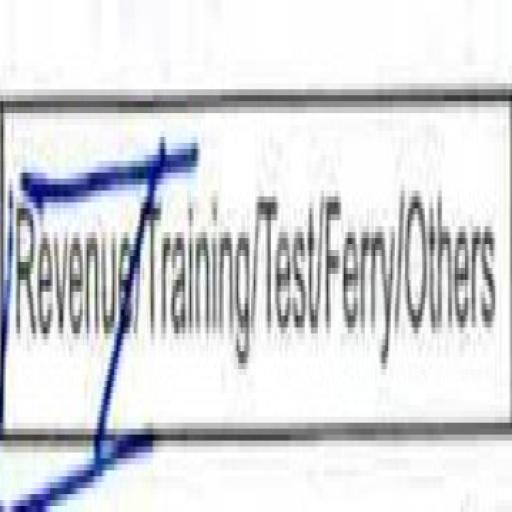check: (3, 33, 144, 512)
